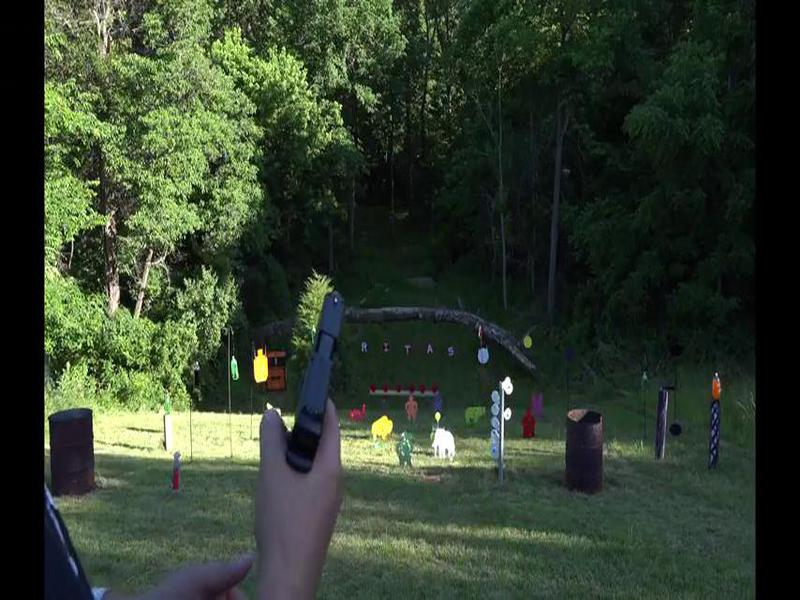Pistola: (276, 284, 360, 477)
